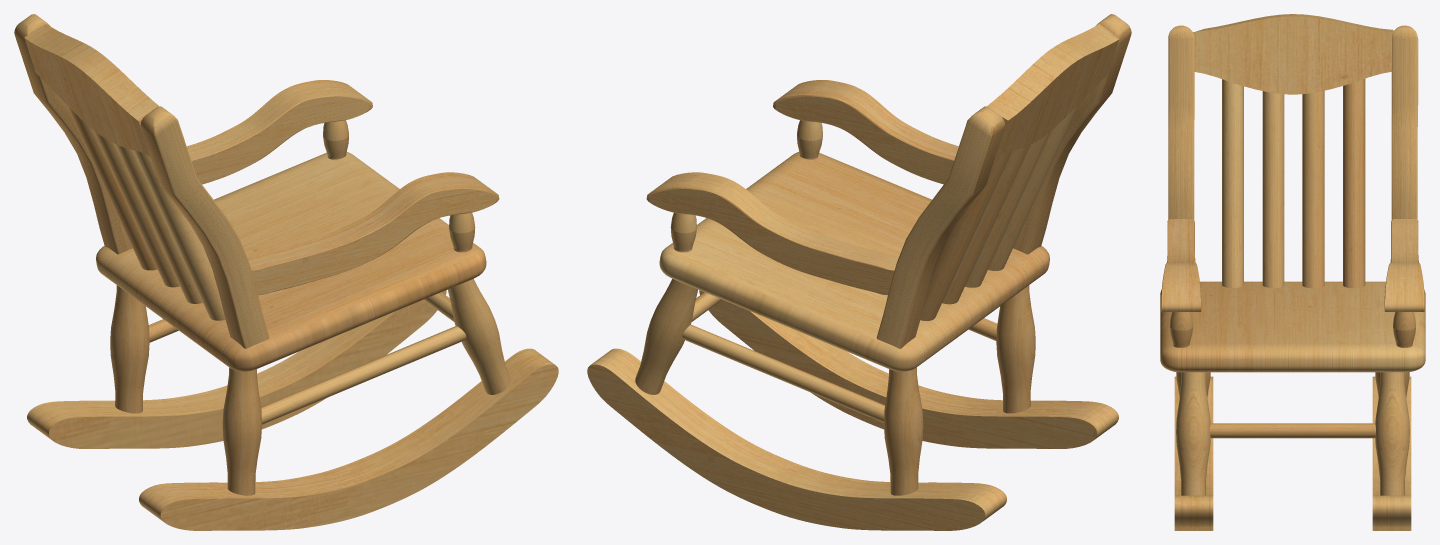
File: chair2.glb
The picture shows the model from 3 angles, left to right: view 1: azimuth 30°, elevation 25°; view 2: azimuth 150°, elevation 25°; view 3: azimuth 270°, elevation 25°; orthographic projection. The views are drawn at different scales.
Visible parts, largest first — view 1: chair; view 2: chair; view 3: chair.
Boxes of the visible parts, x1,y1,x2,y2 form: chair: (14, 14, 558, 530); chair: (587, 14, 1131, 530); chair: (1160, 14, 1425, 530).
Bounding box in the file's own units: 0.9494 × 1.01 × 0.5918.
Materials: 1 (1 with a texture image).
